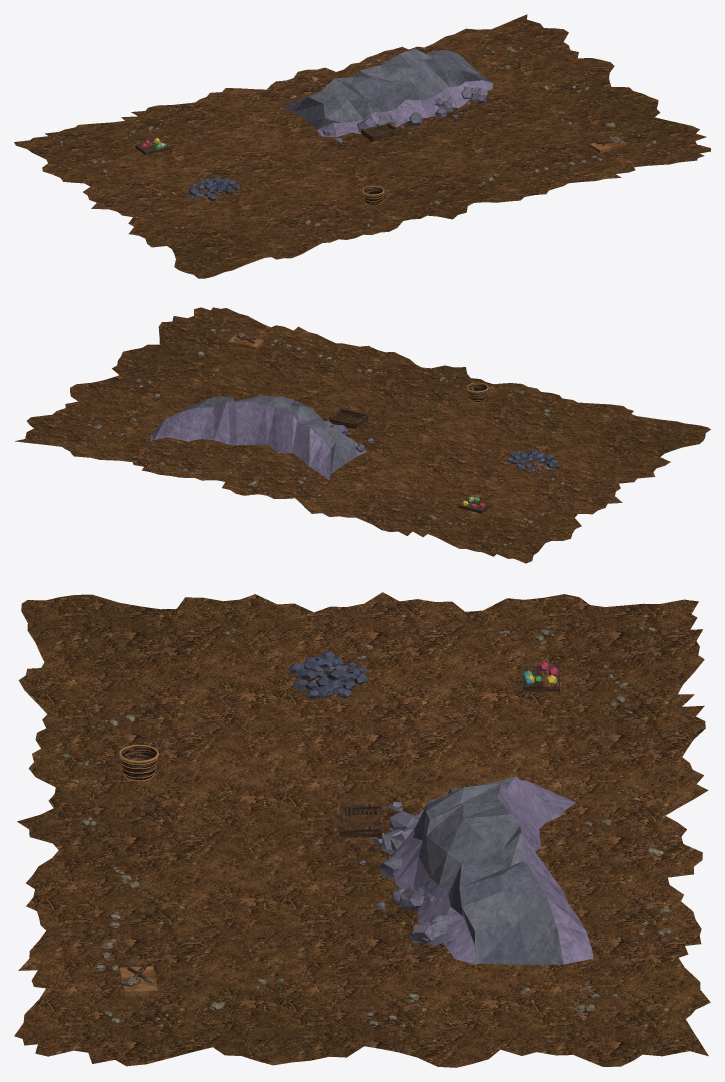
File: gem_mine.glb
The picture shows the model from 3 angles, top to bottom: view 1: azimuth 30°, elevation 25°; view 2: azimuth 150°, elevation 25°; view 3: azimuth 270°, elevation 25°; orthographic projection. The views are drawn at different scales.
Parts seen in each view (by area): view 1: part_0, part_1, part_2; view 2: part_0, part_1, part_2; view 3: part_0, part_1, part_2, part_7, part_9.
Boxes of the visible parts, box(x1,y1,x2,y2) form: part_0: box(14, 14, 710, 278); part_1: box(59, 47, 656, 255); part_2: box(135, 122, 613, 155); part_0: box(15, 307, 710, 563); part_1: box(87, 329, 649, 545); part_2: box(239, 336, 492, 513); part_0: box(14, 592, 710, 1067); part_1: box(60, 625, 671, 1027); part_2: box(127, 665, 559, 978); part_7: box(120, 746, 157, 780); part_9: box(119, 966, 158, 996).
Size of the model in its own units: 9.89 by 0.7921 by 6.12.
12 materials, 6 textured.
